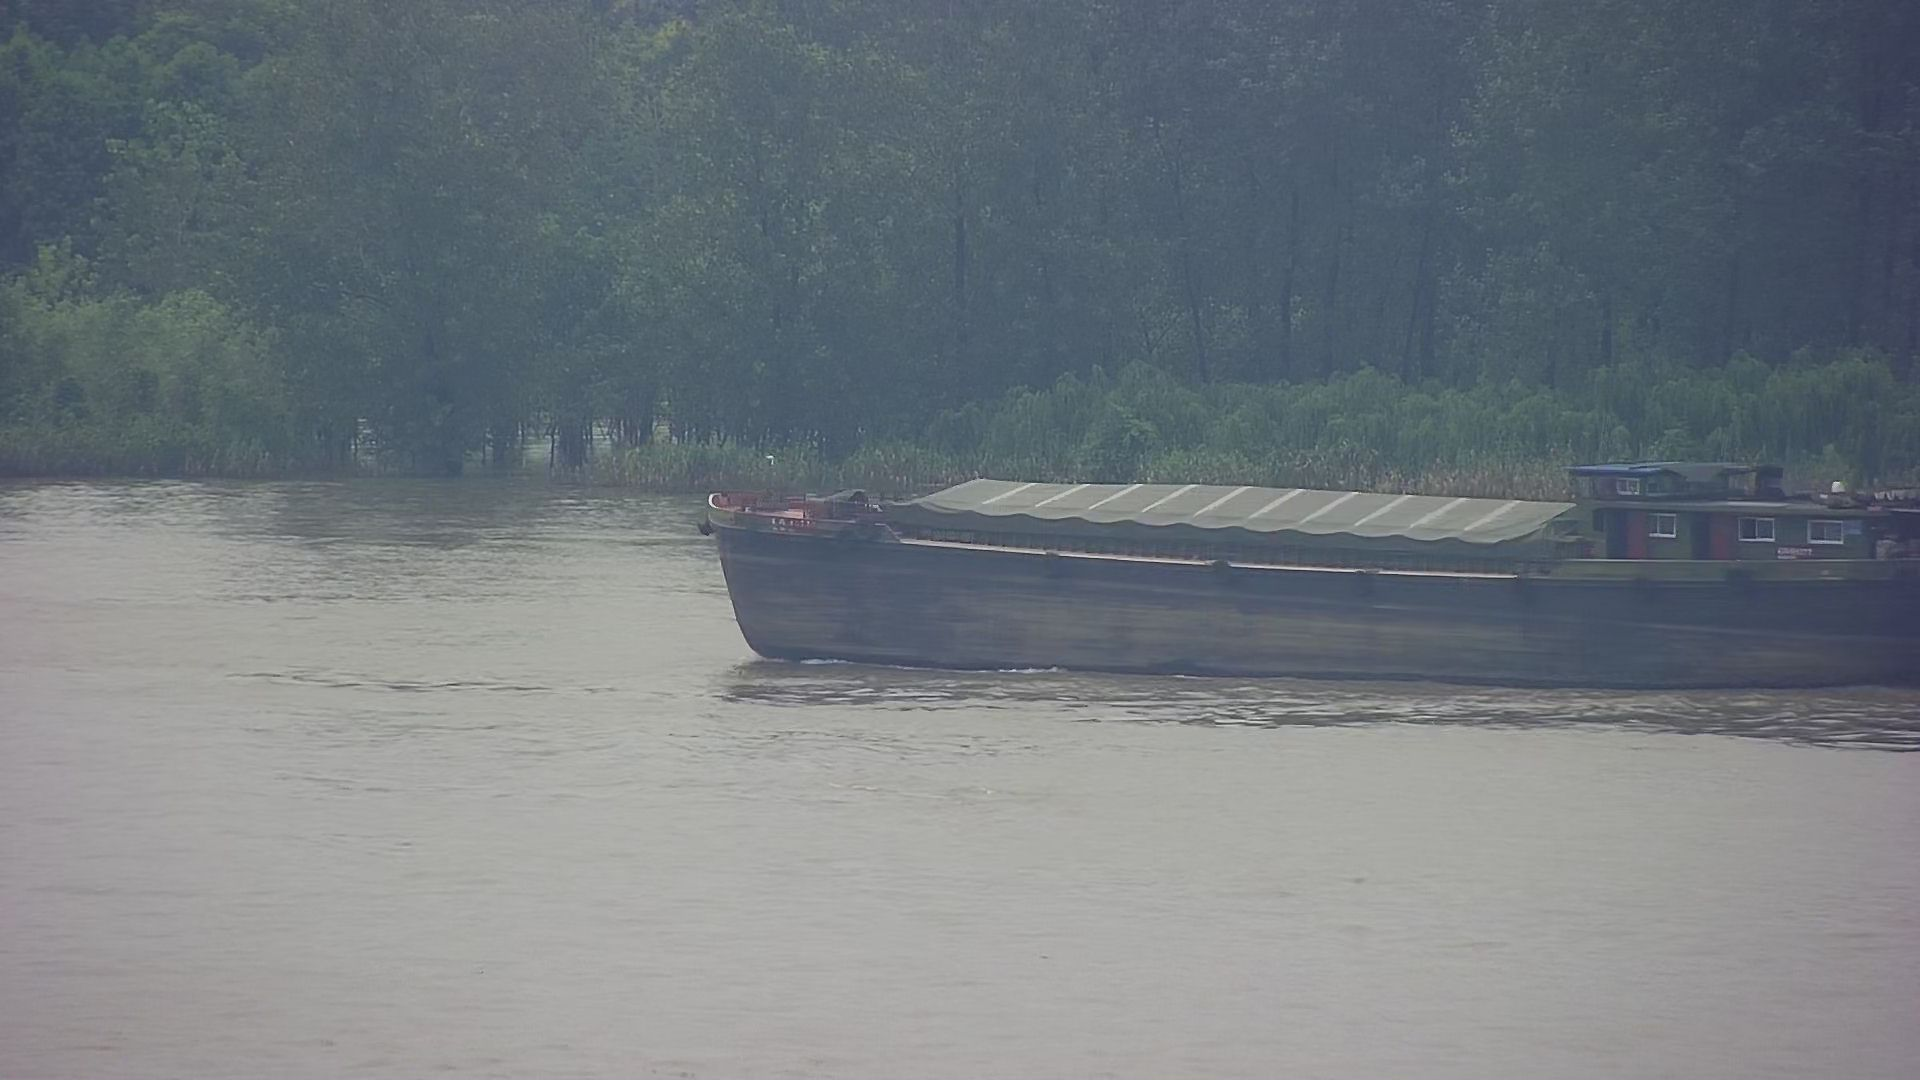ship: (644, 418, 1920, 709)
